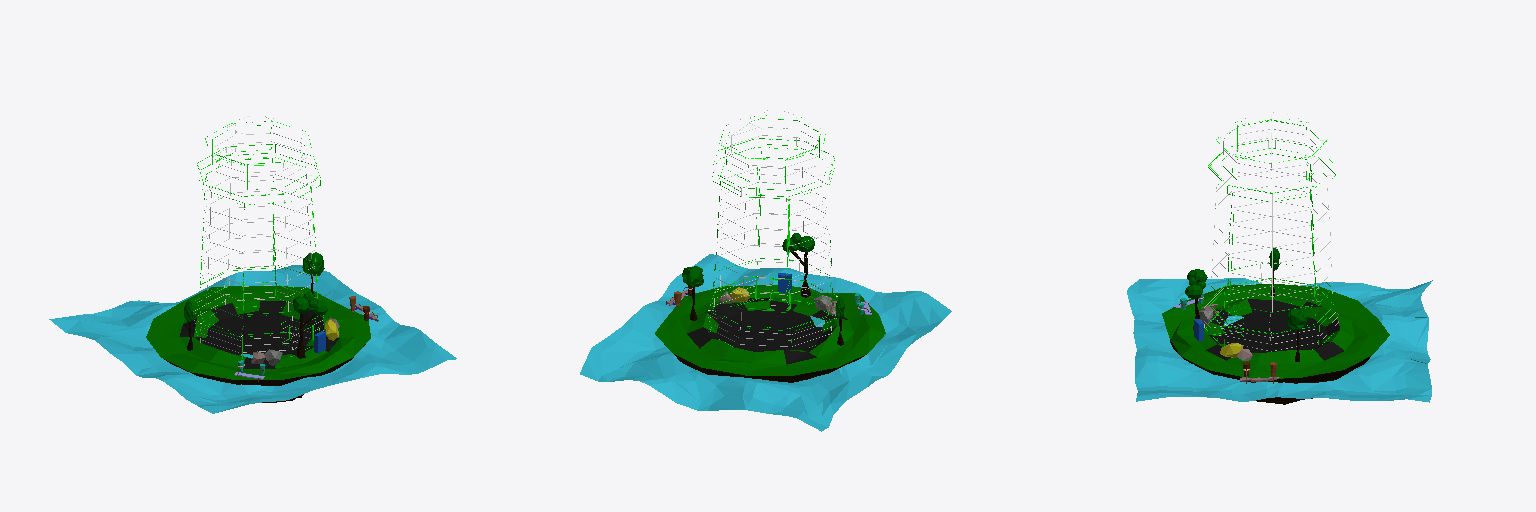
3 renders of one model, left to right at view 1: azimuth 30°, elevation 25°; view 2: azimuth 150°, elevation 25°; view 3: azimuth 270°, elevation 25°, orthographic.
Visible parts, largest first — view 1: Plane002, Land_cone, Majakka01; view 2: Plane002, Land_cone, Majakka01; view 3: Plane002, Land_cone, Majakka01.
Boxes of the visible parts, <box> form: Plane002: <box>49,265,456,413</box>; Land_cone: <box>146,286,370,402</box>; Majakka01: <box>193,116,323,358</box>; Plane002: <box>580,254,951,431</box>; Land_cone: <box>655,284,885,382</box>; Majakka01: <box>708,110,837,347</box>; Plane002: <box>1127,278,1432,402</box>; Land_cone: <box>1162,284,1389,404</box>; Majakka01: <box>1204,112,1338,351</box>.
Bounding box in the file's own units: 112 × 110 × 114.
19 materials, 1 textured.